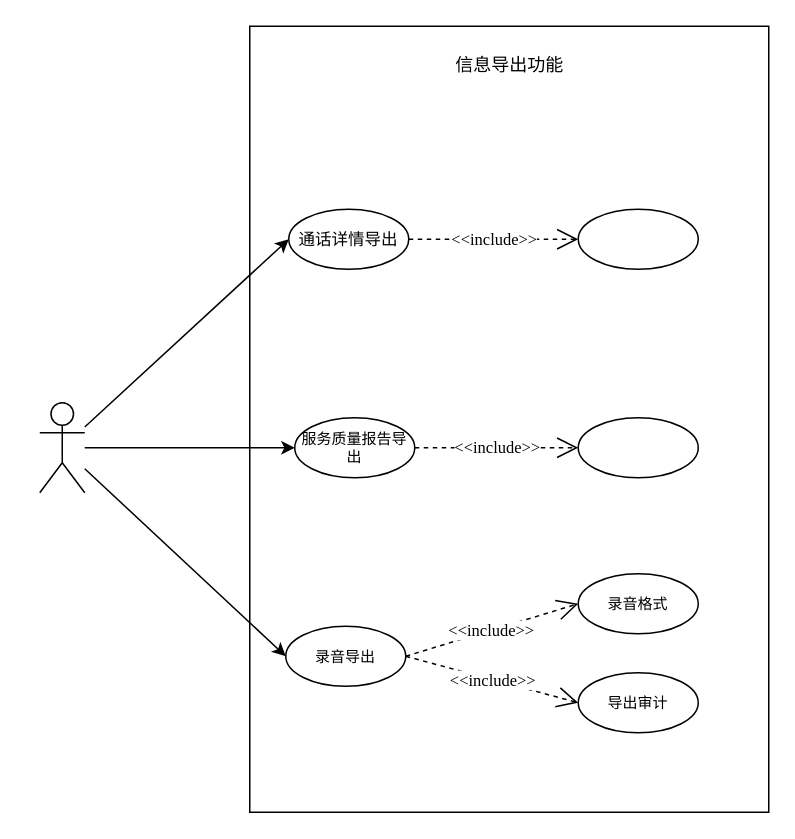
This 795x839 diagram has some shape labels left out. The shapes that lost their labels are listed below. From the top down, each one's centre as x and y in pixels, then its label:
At (x=637, y=238): "自定义条件导出".
At (x=61, y=447): "客户团队".
At (x=637, y=447): "定期报告".
